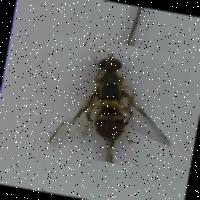Oriental-fruit-fly: (32, 30, 193, 172)
